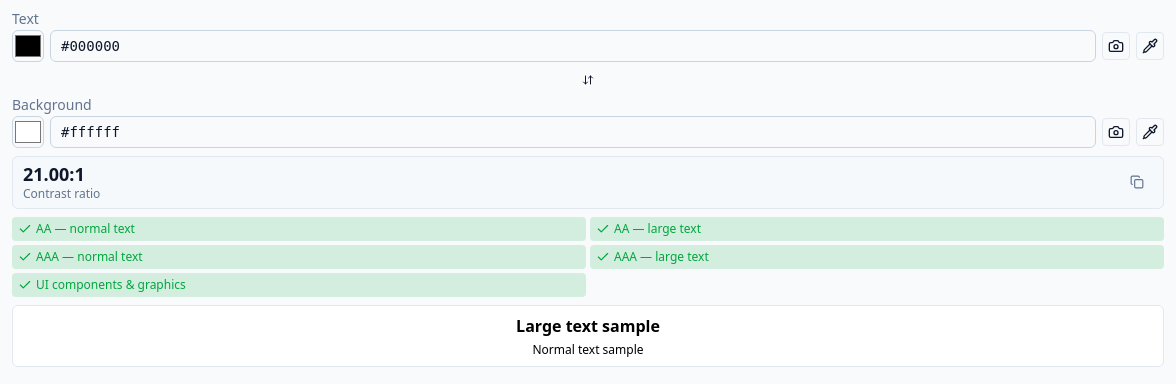
Test: WcagCheckerWidget › does not let a translucent color report a falsely high ratio
Replace the text in the field labelled "Text" with "rgba(0, 0, 0, 0.5)" at (573,46), box [50, 30, 1096, 62]
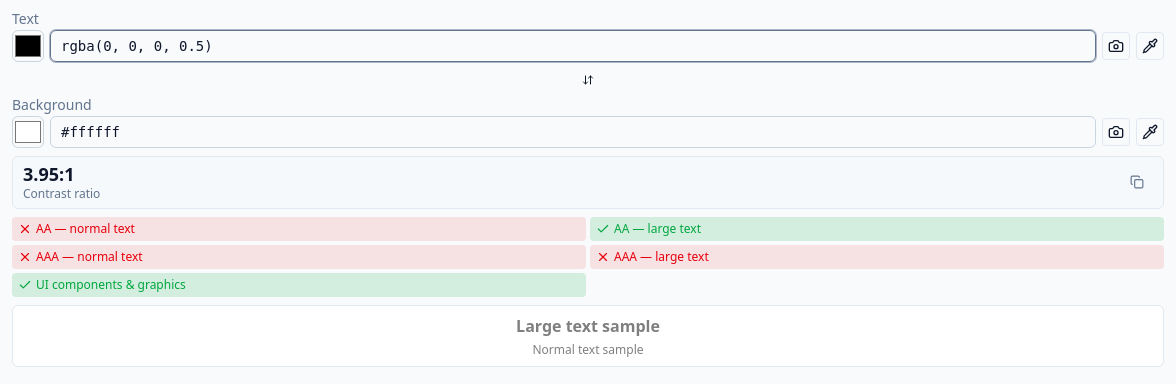
Expected: the text "3.95:1" is shown, [23, 162, 74, 186]
Expected: the text "21.00:1" is gone
